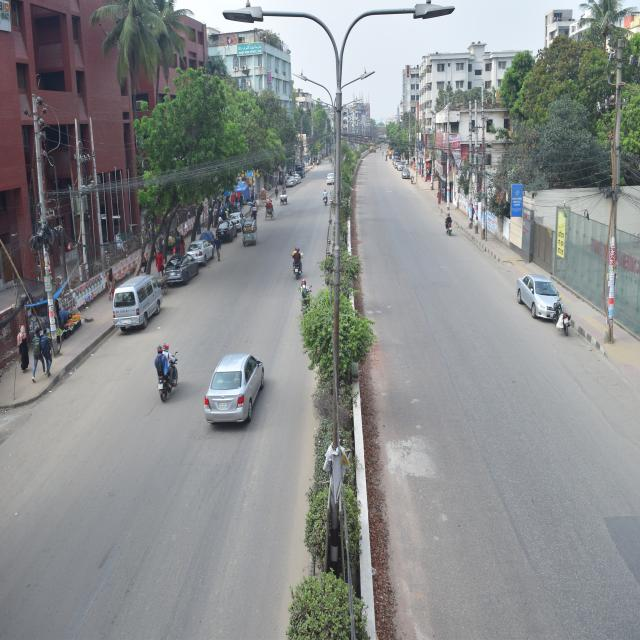car: (204, 347, 266, 435), (164, 246, 195, 296), (189, 225, 215, 274), (212, 208, 235, 249), (226, 198, 242, 235), (326, 172, 337, 188), (284, 172, 292, 189)
microbus: (93, 269, 164, 332)
motorbike: (152, 334, 182, 403), (553, 296, 576, 340), (434, 204, 458, 244), (296, 284, 320, 314), (287, 242, 308, 275), (318, 190, 332, 212)
